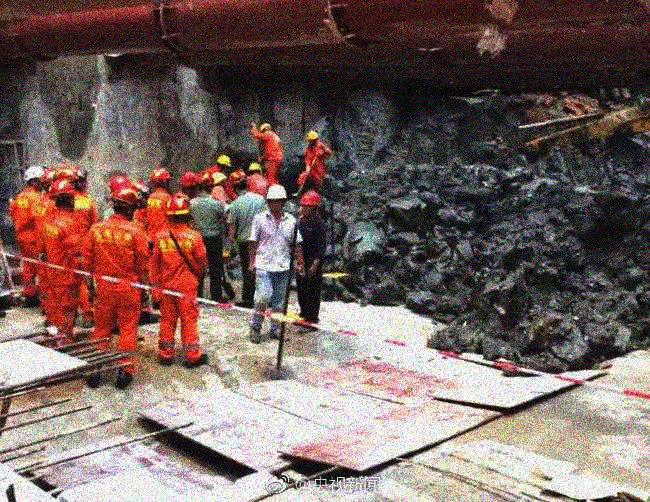helmet: (109, 186, 139, 218), (48, 180, 78, 211), (164, 194, 190, 225), (264, 182, 288, 215), (298, 188, 320, 217), (148, 166, 172, 189), (22, 164, 44, 189), (179, 169, 199, 194), (197, 169, 215, 194), (215, 153, 232, 172), (304, 130, 319, 146), (246, 161, 261, 176), (256, 121, 273, 134)
